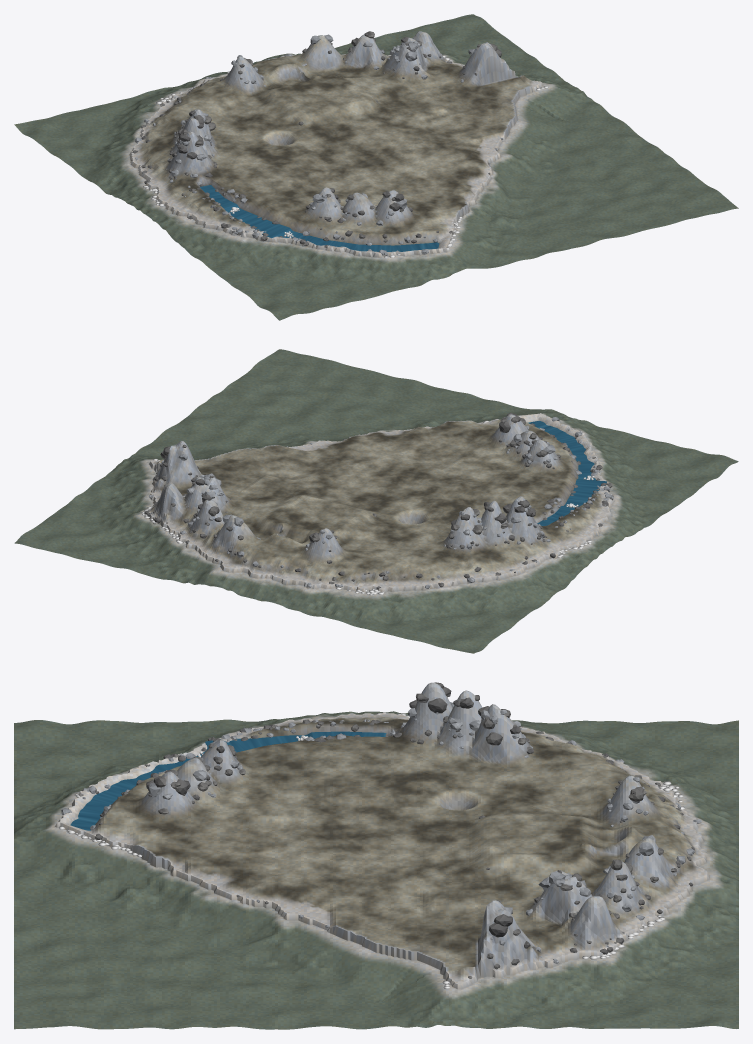
Rendered from Terrain_P2.fbx.
3 renders of one model, top to bottom at view 1: azimuth 30°, elevation 25°; view 2: azimuth 150°, elevation 25°; view 3: azimuth 270°, elevation 25°, orthographic. The views are drawn at different scales.
Parts seen in each view (by area): view 1: Ground, River; view 2: Ground, River, Surf; view 3: Ground, River, Surf.
Part boxes in pixels (bbox=[...]): Ground: bbox=[14, 14, 738, 320]; River: bbox=[200, 185, 439, 251]; Ground: bbox=[14, 349, 738, 653]; River: bbox=[528, 420, 606, 526]; Surf: bbox=[141, 418, 591, 595]; Ground: bbox=[14, 682, 738, 1029]; River: bbox=[70, 731, 386, 830]; Surf: bbox=[58, 712, 684, 988].
Size of what is drawn, in the model's own units: 64000 by 8397 by 64000.
